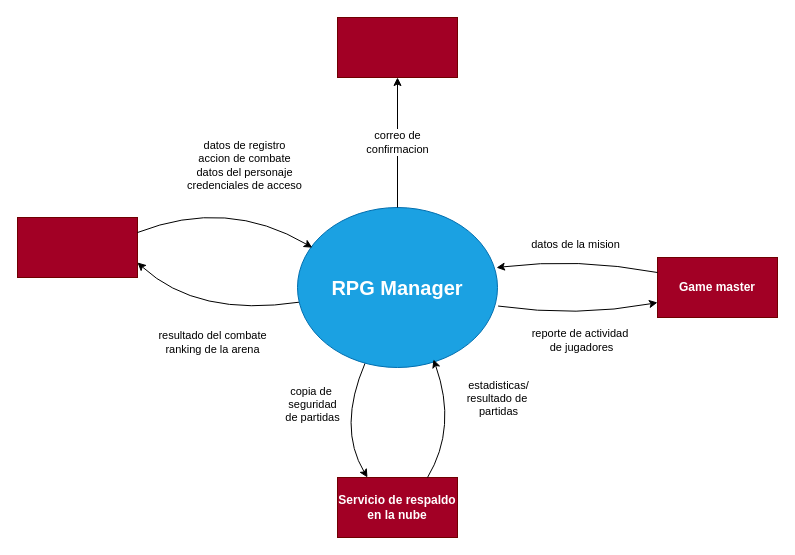
Image size: 795x555. Some labels were removed from this diagram. The shapes that lost their labels are listed below. From the top down, each one's box as (x1, y1, x2, y2) in pixels, then its label:
(336, 16, 458, 78): Servicio de correo
(16, 216, 138, 278): Jugador
